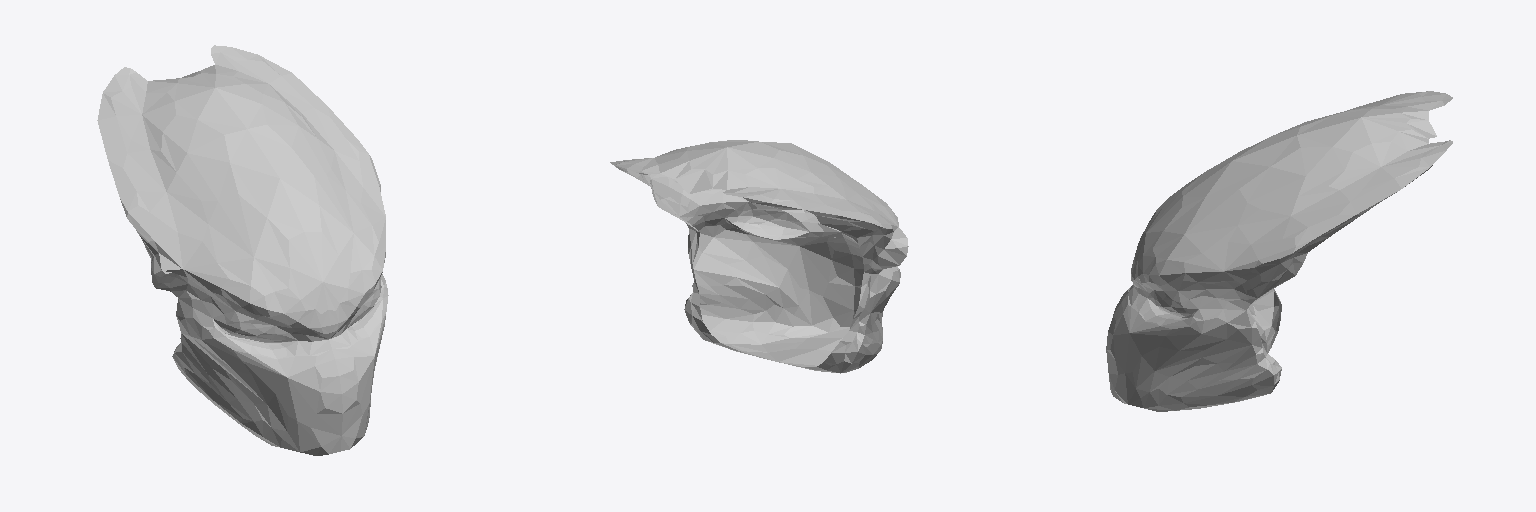
The model's file is p_mask.obj.
3 renders of one model, left to right at view 1: azimuth 30°, elevation 25°; view 2: azimuth 150°, elevation 25°; view 3: azimuth 270°, elevation 25°, orthographic.
Parts seen in each view (by area): view 1: ct_gign.ct_gign_reference.smd.mesh_2.002; view 2: ct_gign.ct_gign_reference.smd.mesh_2.002; view 3: ct_gign.ct_gign_reference.smd.mesh_2.002.
Part boxes in pixels (bbox=[...]): ct_gign.ct_gign_reference.smd.mesh_2.002: bbox=[97, 45, 388, 455]; ct_gign.ct_gign_reference.smd.mesh_2.002: bbox=[610, 140, 908, 373]; ct_gign.ct_gign_reference.smd.mesh_2.002: bbox=[1106, 91, 1452, 411].
Size of the model in its own units: 10.28 by 11.11 by 12.63.